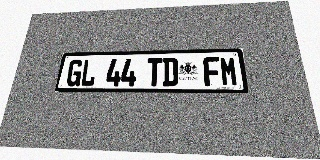4: (120, 58, 137, 86), (105, 59, 122, 86)
D: (162, 57, 178, 86)
F: (203, 57, 221, 86)
G: (65, 59, 84, 86)
L: (80, 59, 97, 86)
M: (219, 56, 239, 86)
T: (146, 58, 162, 86)
